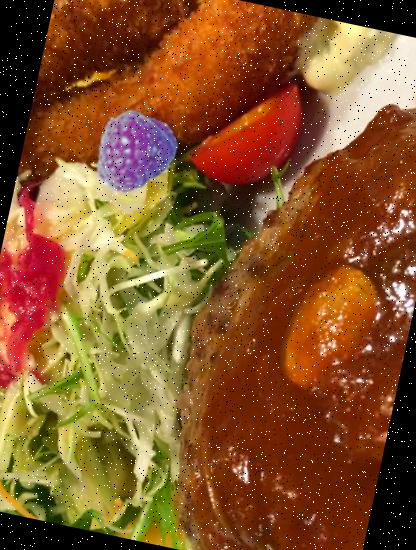Raspberry: (80, 98, 182, 201)
